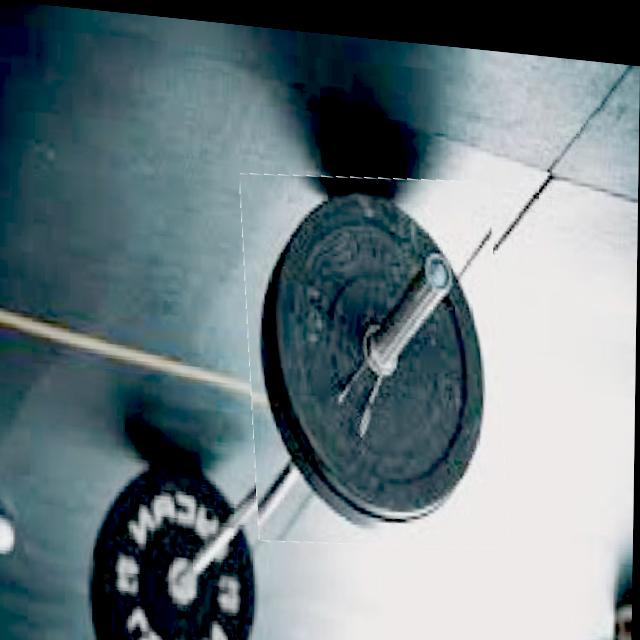barbell: (243, 157, 510, 552)
